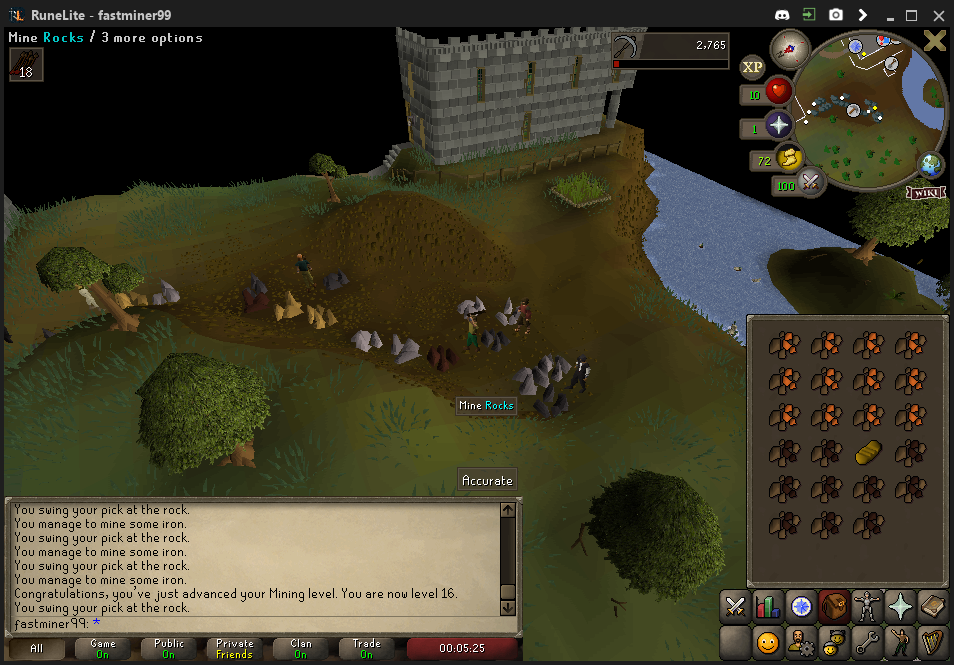depleted: (532, 387, 575, 421), (479, 326, 512, 353), (321, 268, 356, 291), (236, 275, 272, 294)
ore: (427, 343, 465, 371), (241, 291, 272, 312)
